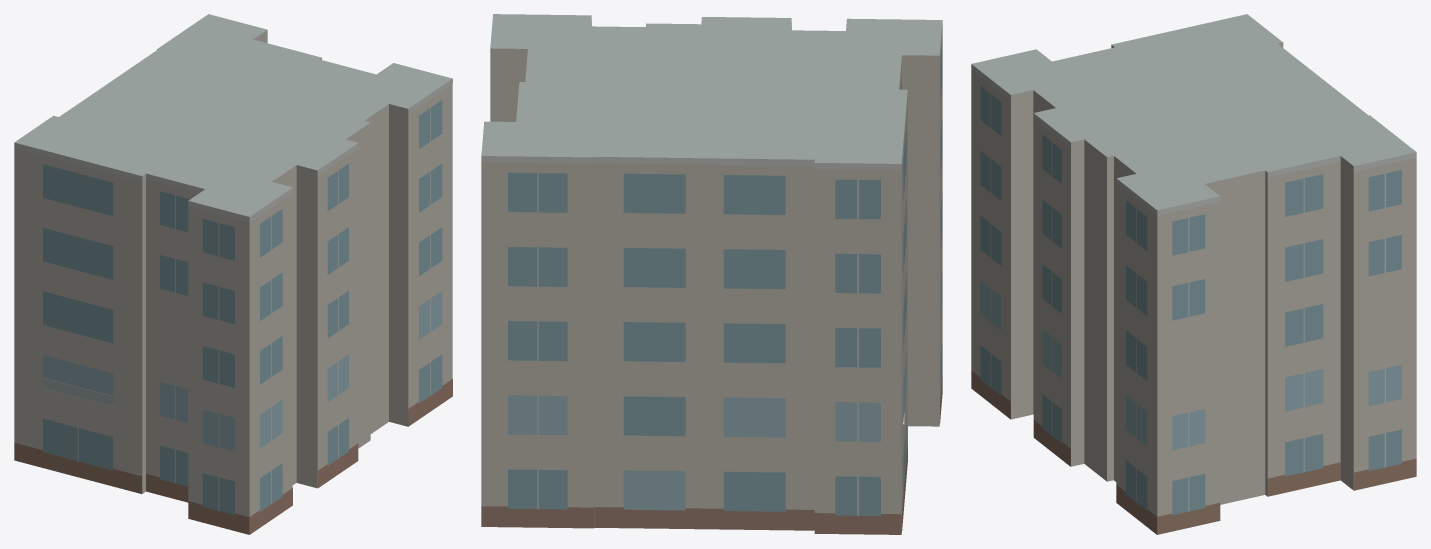
File: survey-upis-32994050.glb
3 renders of one model, left to right at view 1: azimuth 30°, elevation 25°; view 2: azimuth 150°, elevation 25°; view 3: azimuth 270°, elevation 25°, orthographic. The views are drawn at different scales.
Parts seen in each view (by area): view 1: survey-upis-32994050.tmp; view 2: survey-upis-32994050.tmp; view 3: survey-upis-32994050.tmp.
Boxes of the visible parts, left/top/right/bottom form: survey-upis-32994050.tmp: left=14, top=14, right=452, bottom=534; survey-upis-32994050.tmp: left=481, top=14, right=942, bottom=534; survey-upis-32994050.tmp: left=971, top=14, right=1416, bottom=534.
Bounding box in the file's own units: 18.31 × 14.1 × 17.55.
